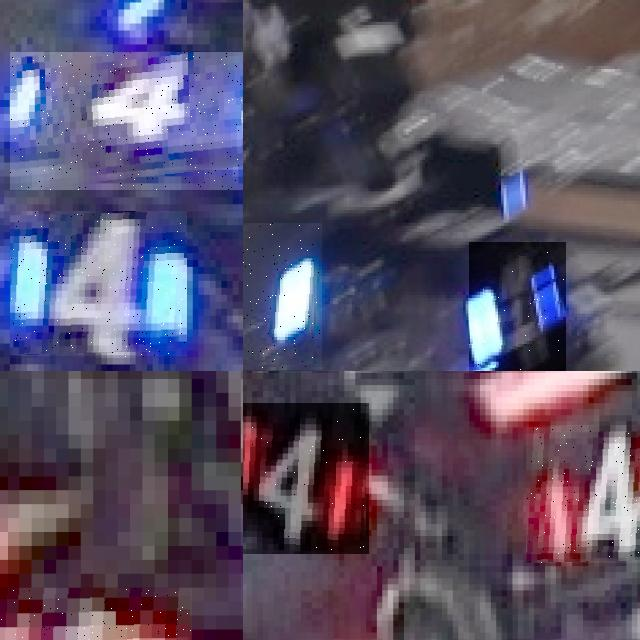B3: (243, 222, 322, 370)
B4: (9, 51, 243, 190), (10, 212, 187, 358), (468, 241, 566, 371)
R4: (243, 403, 369, 554), (526, 424, 640, 563), (0, 587, 191, 640)
